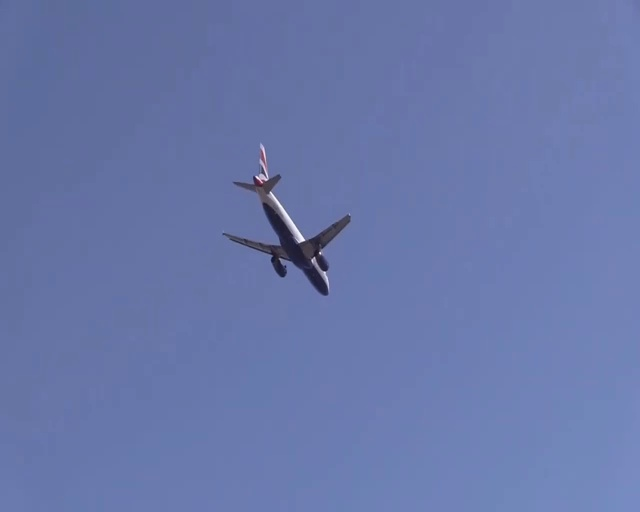AIRPLANE: (224, 141, 351, 297)
